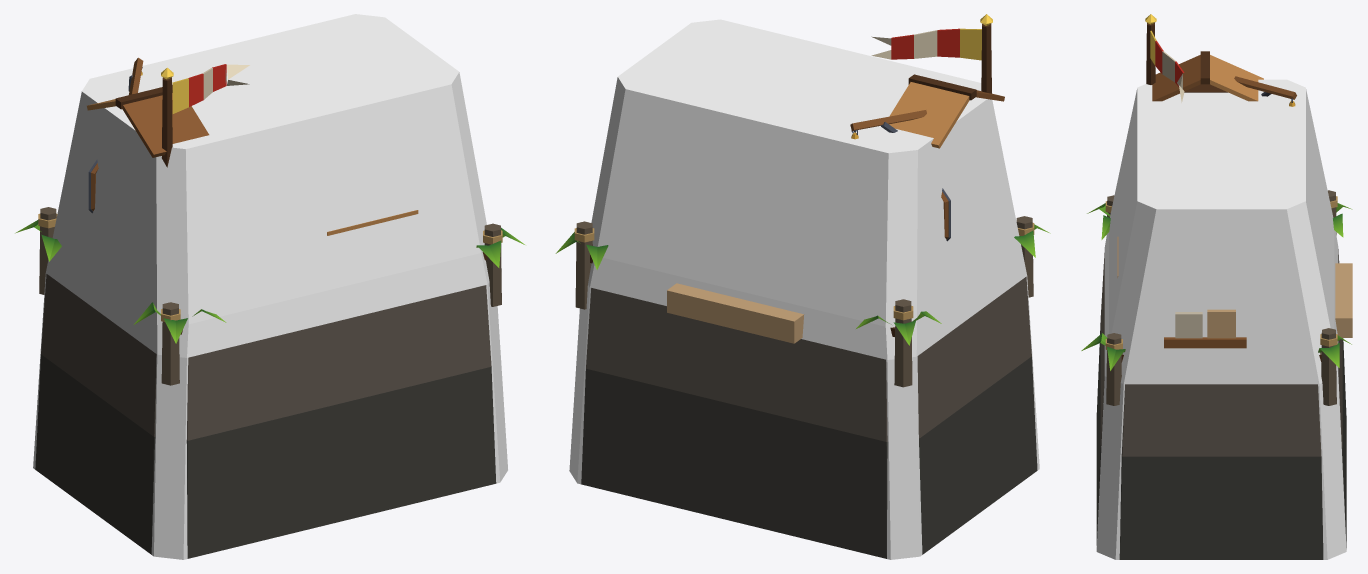
File: pirate_ropewalk_cordage_loom.glb
3 views of the same model, side by side, from view 1: azimuth 30°, elevation 25°; view 2: azimuth 150°, elevation 25°; view 3: azimuth 270°, elevation 25° (orthographic). The views are drawn at different scales.
Visible parts, largest first — view 1: col_ropewalk_base, pirate_ropewalk_cordage_loom; view 2: col_ropewalk_base, pirate_ropewalk_cordage_loom; view 3: col_ropewalk_base, pirate_ropewalk_cordage_loom.
Part boxes in pixels (<box>): col_ropewalk_base: <box>33,14,507,559</box>; pirate_ropewalk_cordage_loom: <box>15,57,524,558</box>; col_ropewalk_base: <box>569,19,1039,559</box>; pirate_ropewalk_cordage_loom: <box>555,14,1050,558</box>; col_ropewalk_base: <box>1096,79,1346,559</box>; pirate_ropewalk_cordage_loom: <box>1081,14,1352,559</box>.
Size of the model in its own units: 5.64 by 6.64 by 4.02.
